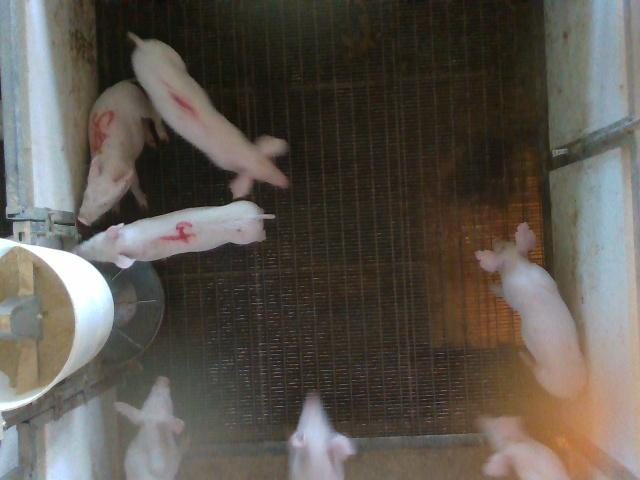pig-1: (128, 32, 289, 198)
pig-4: (74, 201, 274, 268)
pig-5: (78, 80, 168, 225)
